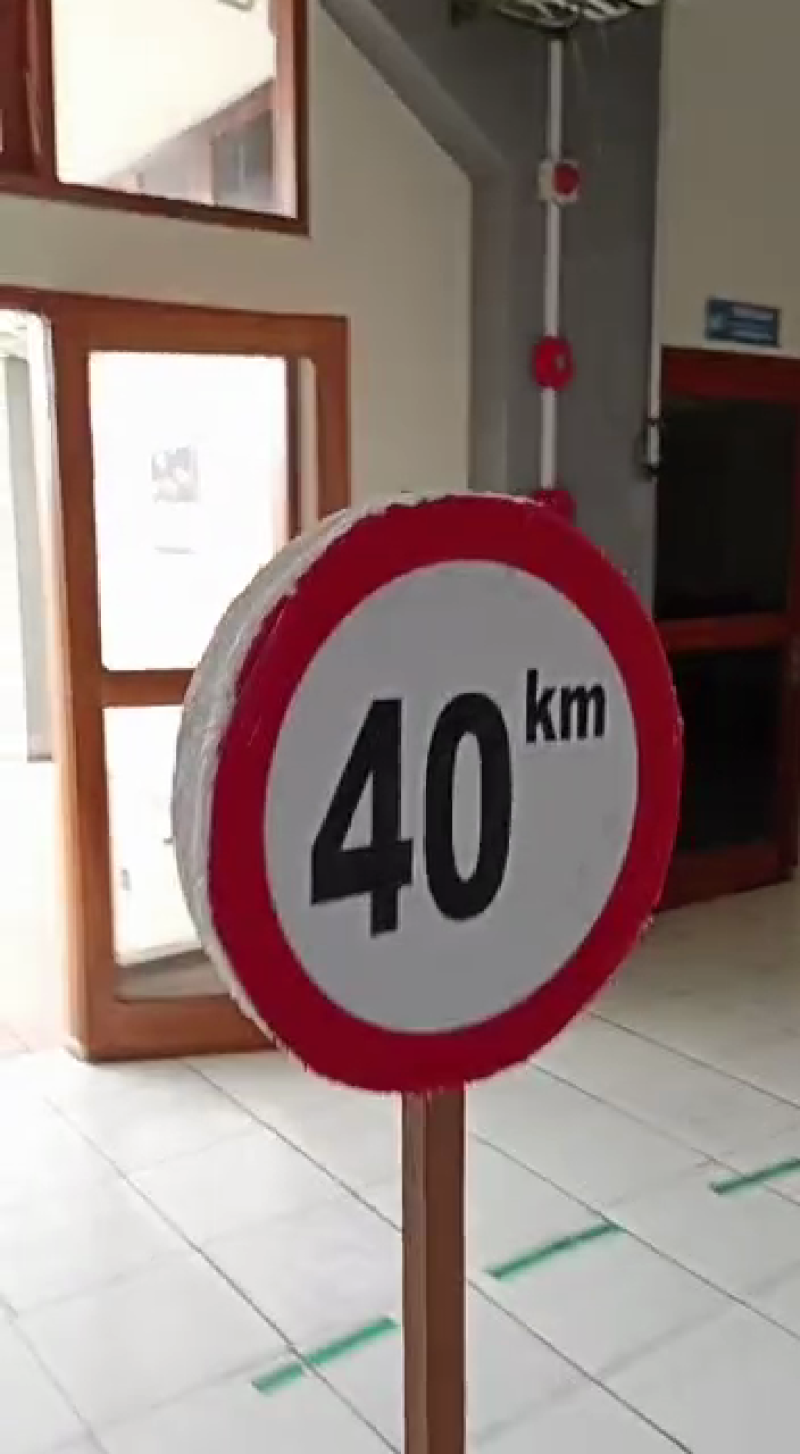batas maksimal 40kmperjam: (160, 470, 685, 1118)
